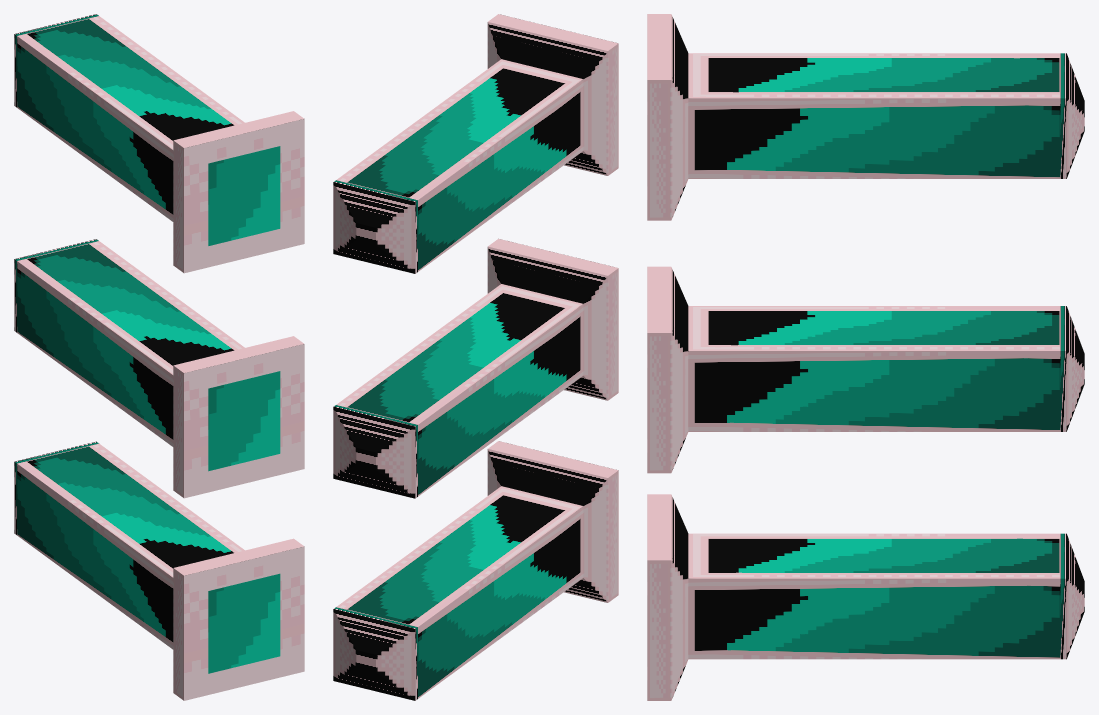
The model's file is vENDING mACHINETubes.glb.
3 views of the same model, side by side, from view 1: azimuth 30°, elevation 25°; view 2: azimuth 150°, elevation 25°; view 3: azimuth 270°, elevation 25° (orthographic). The views are drawn at different scales.
Visible parts, largest first — view 1: Cube.004; view 2: Cube.004; view 3: Cube.004.
Part boxes in pixels (left/top/right/bottom): Cube.004: left=14, top=14, right=304, bottom=700; Cube.004: left=333, top=14, right=618, bottom=700; Cube.004: left=647, top=14, right=1084, bottom=700.
Bounding box in the file's own units: 0.6593 × 2.89 × 1.85.
Materials: 3 (3 with a texture image).
